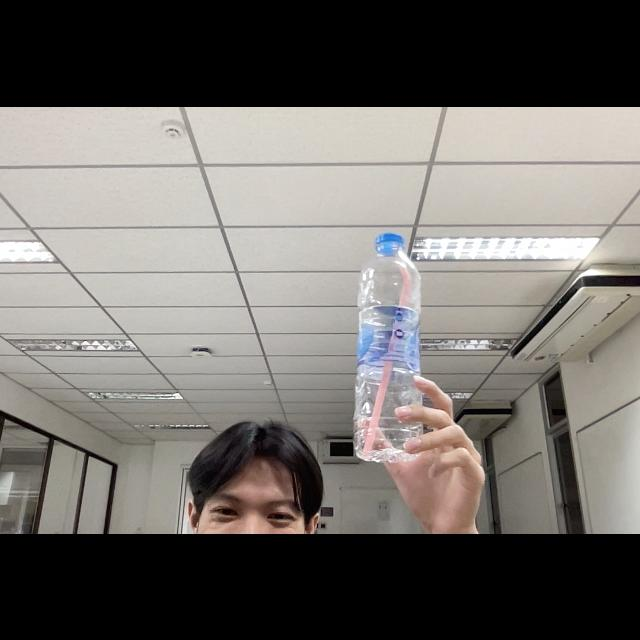plastic_bottle: (351, 230, 432, 466)
plastic_bottle_cap: (372, 230, 406, 256)
straw: (363, 260, 405, 460)
